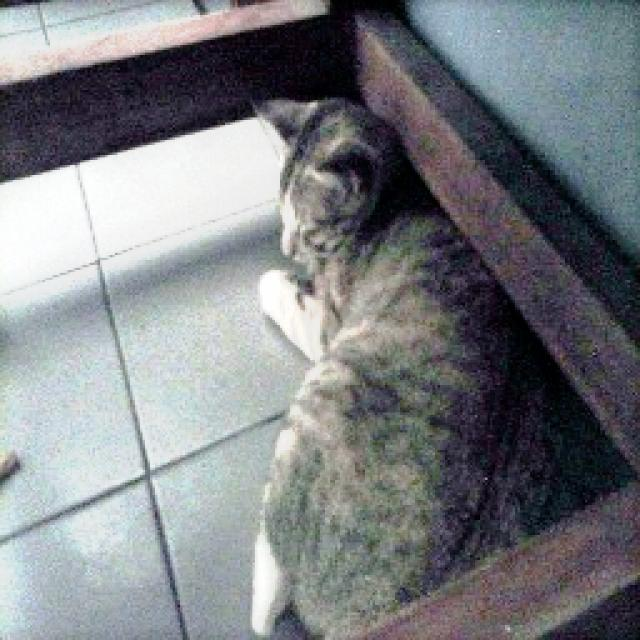cat: (214, 55, 564, 636)
